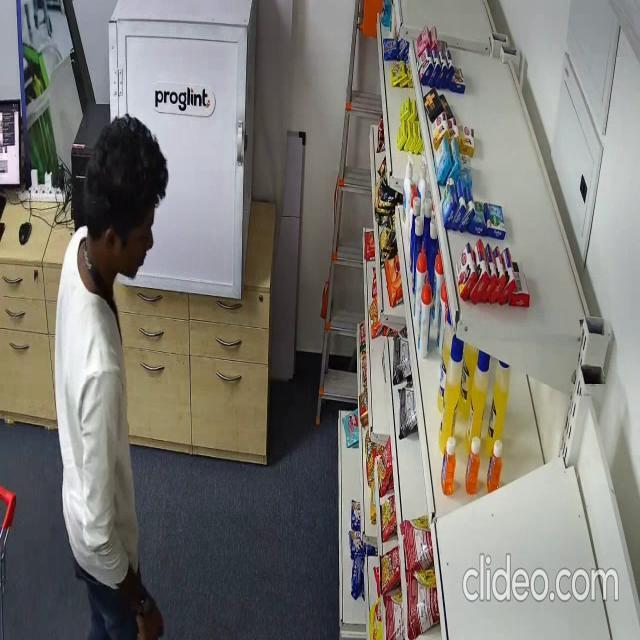normal: (53, 114, 169, 640)
